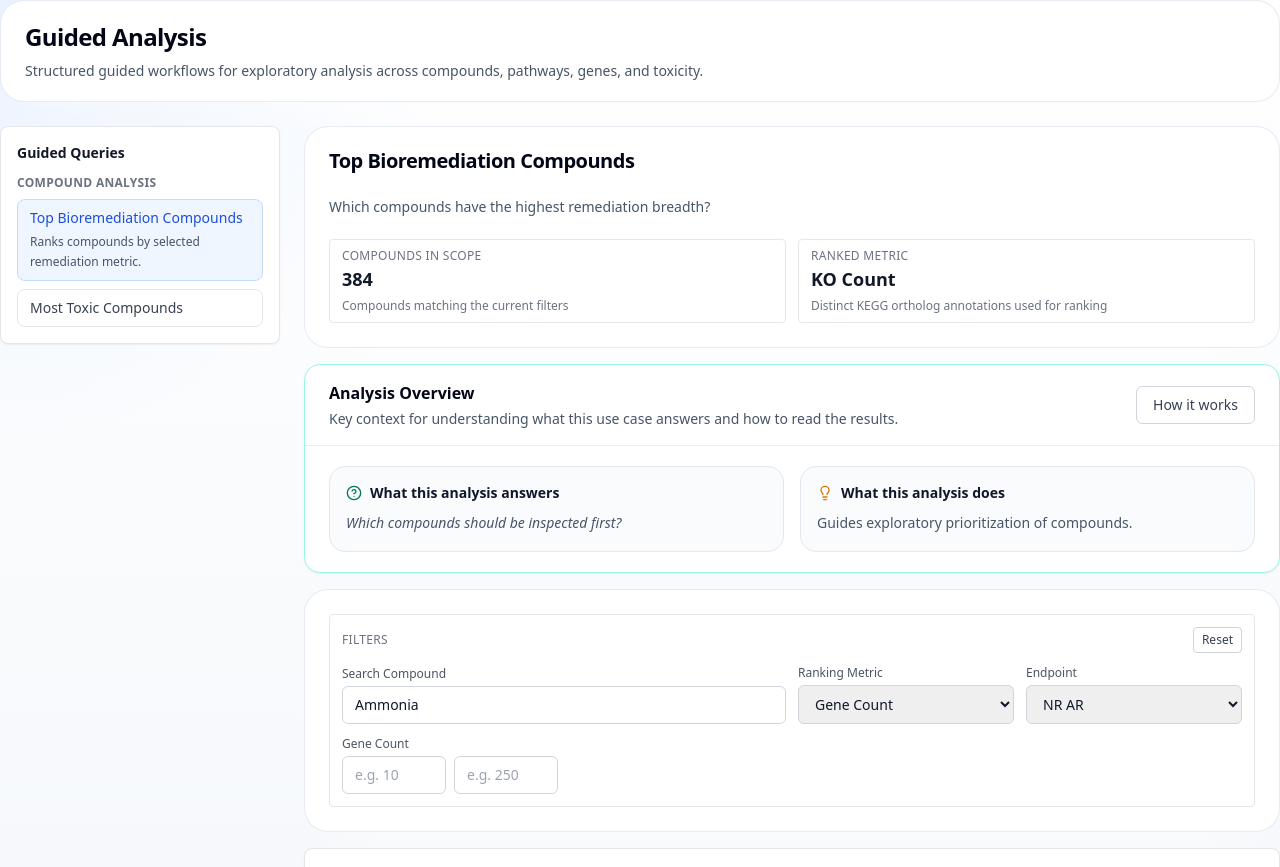
Scenario: GuidedAnalysisPage › loads the first query by default and resets filters when switching queries
expect the text "Which compounds have the highest remediation breadth?" is shown: met, box [329, 197, 710, 216]
expect the text "Ranks compounds by selected remediation metric." is shown: met, box [30, 233, 200, 270]
Click the button "Most Toxic Compounds": (140, 308) [17, 289, 263, 327]
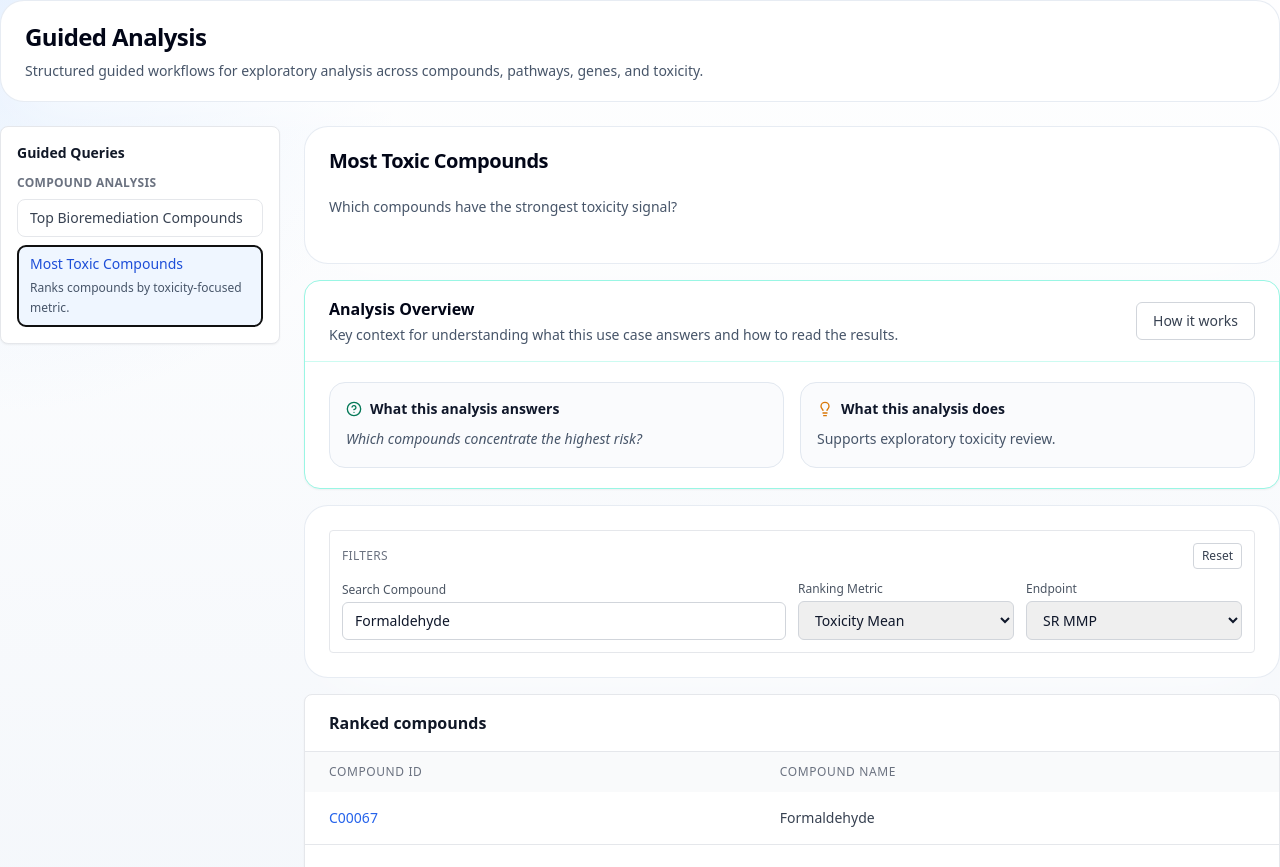
expect the field labelled "Search Compound" holds "Formaldehyde": met, box [342, 602, 786, 640]
expect the dropdown labelled "Ranking Metric" shows "Toxicity Mean": met, box [798, 601, 1014, 640]
expect the dropdown labelled "Endpoint" shows "SR MMP": met, box [1026, 601, 1242, 640]
